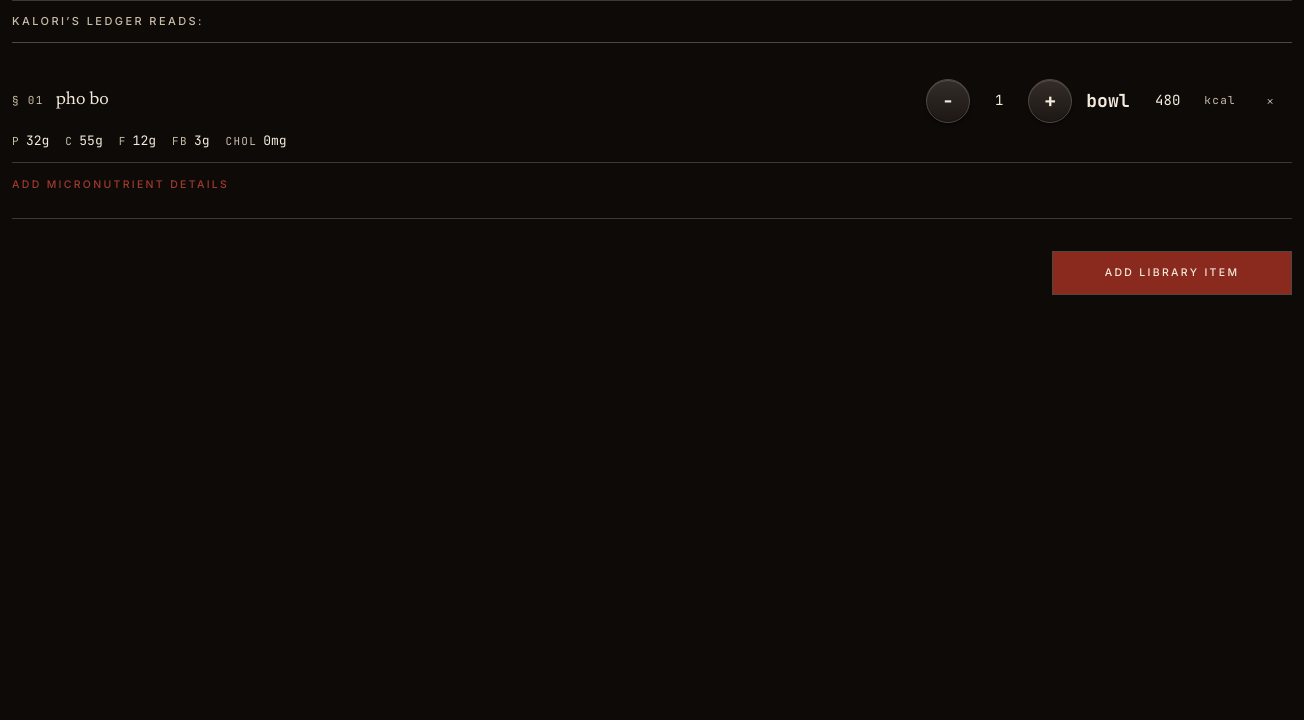
Test case: <ConfirmationItemMicros /> — Bug 1 cross-surface sort rule › freezes the input order at mount — clearing the top-ranked iron input does NOT push it below sodium / vitamin_c
Click the button with test id "confirmation-item-0-micros-trigger": (121,184) left=12, top=162, right=1292, bottom=206
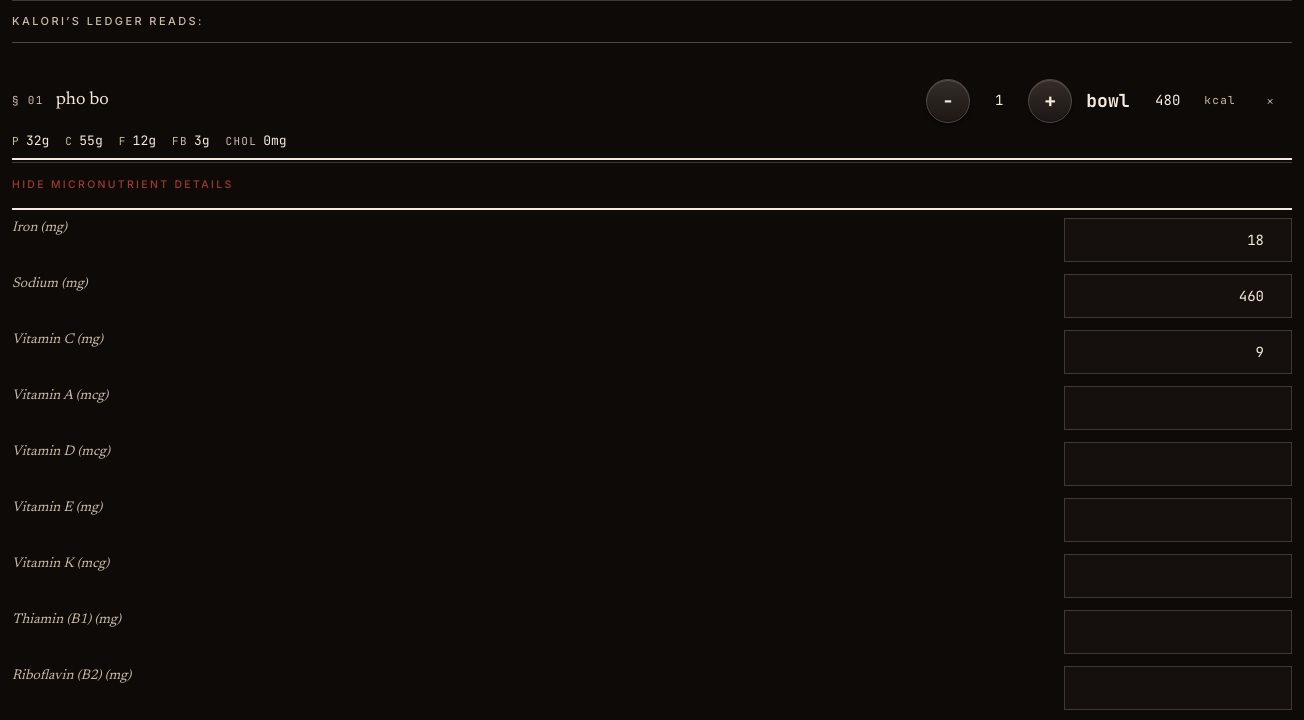
Clear the number field with test id "confirmation-item-0-micro-iron-input": (1178,240) left=1064, top=218, right=1292, bottom=262
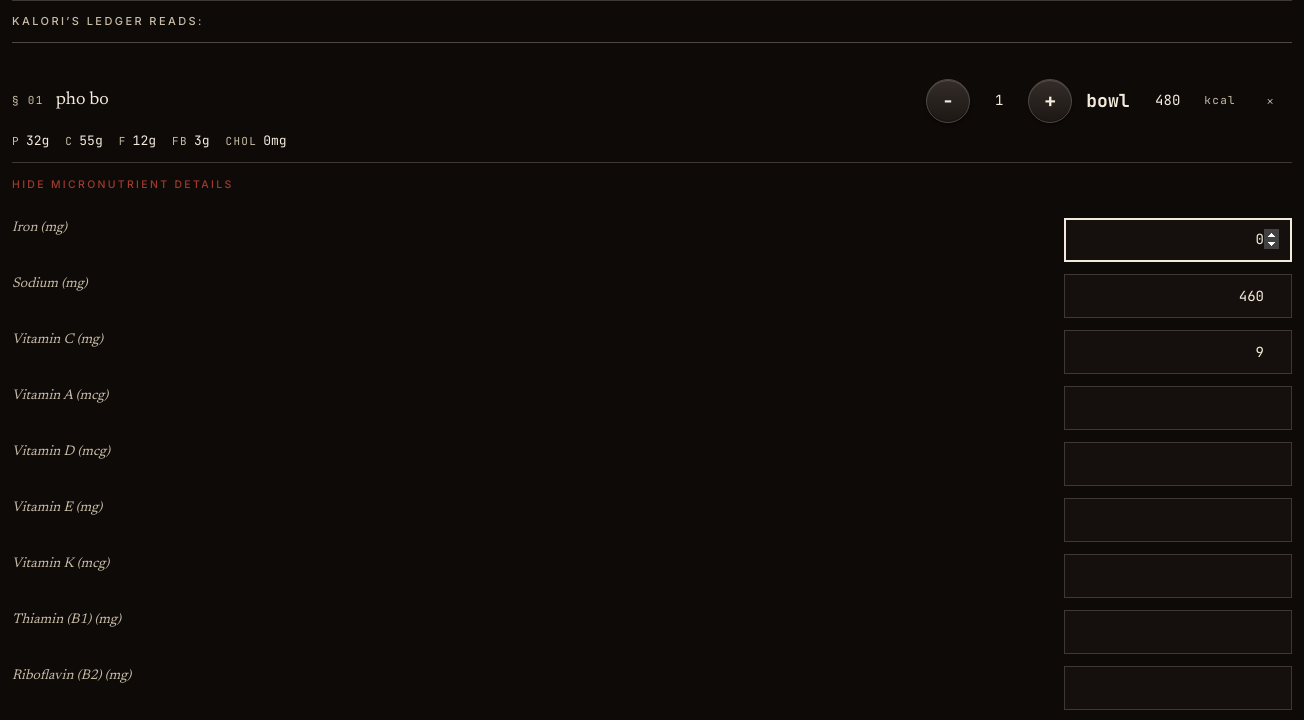
Check: the number field with test id "confirmation-item-0-micro-iron-input" holds "0", box left=1064, top=218, right=1292, bottom=262
